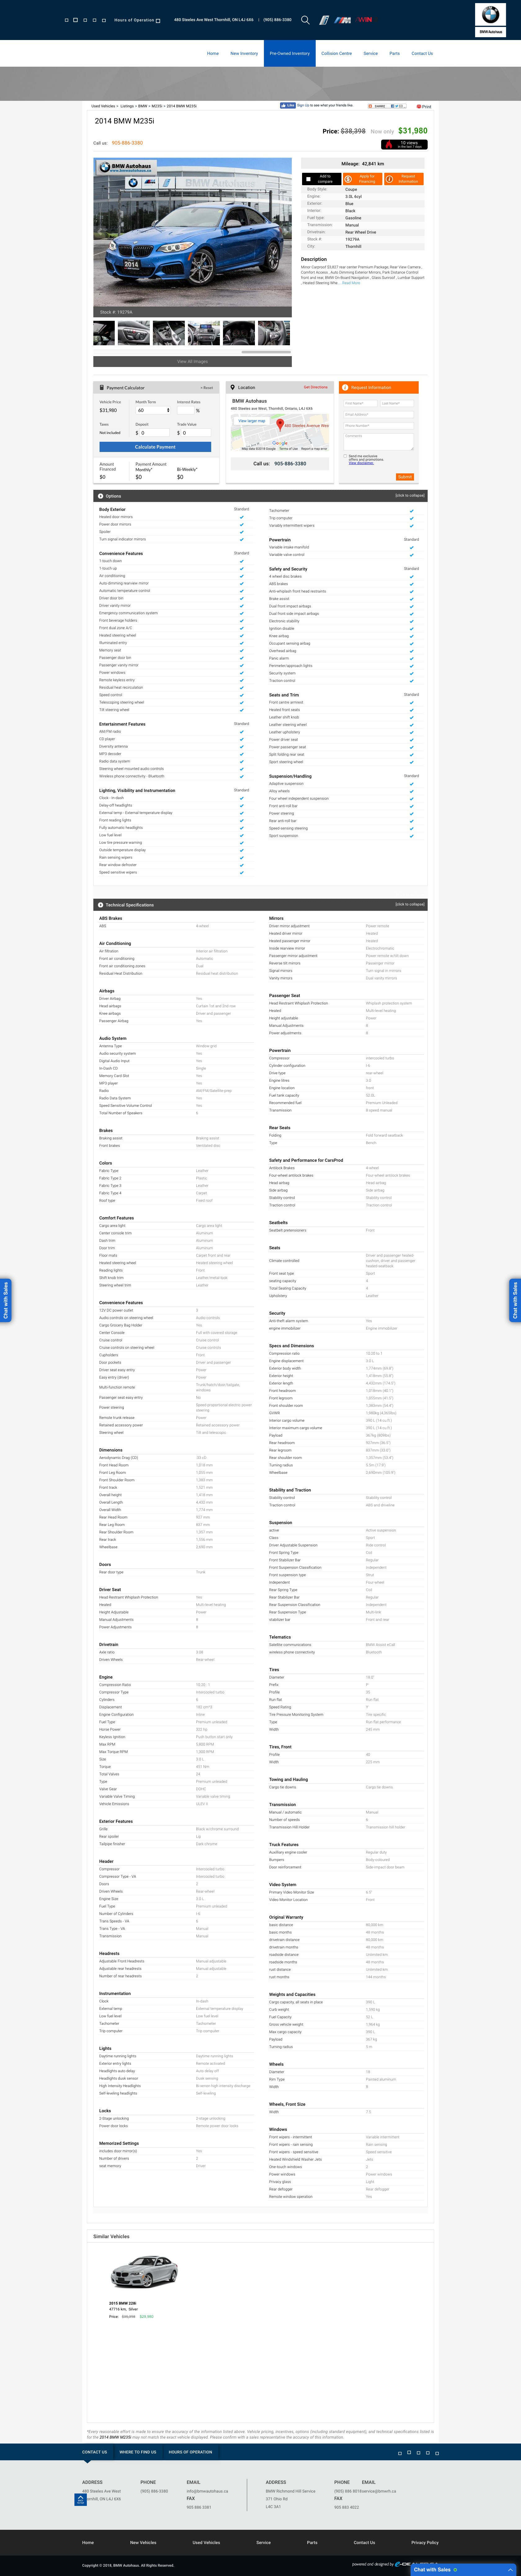car: (279, 227, 294, 240)
